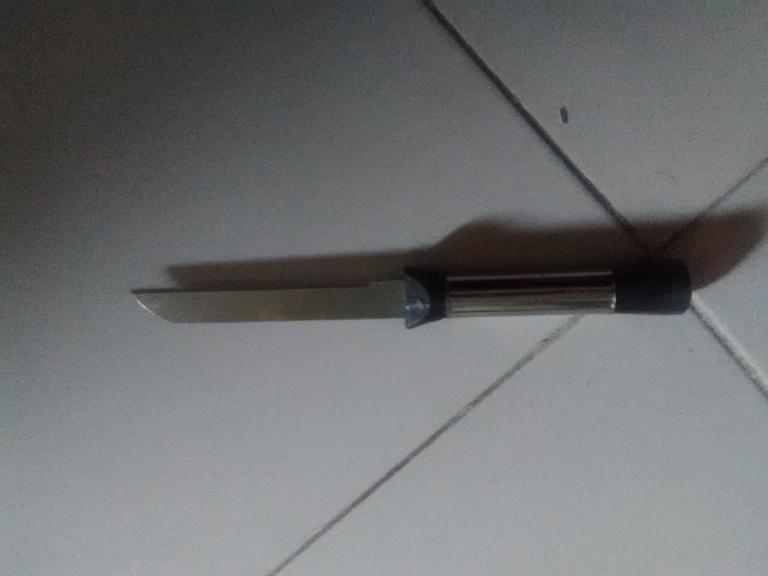knife: (129, 264, 689, 329)
